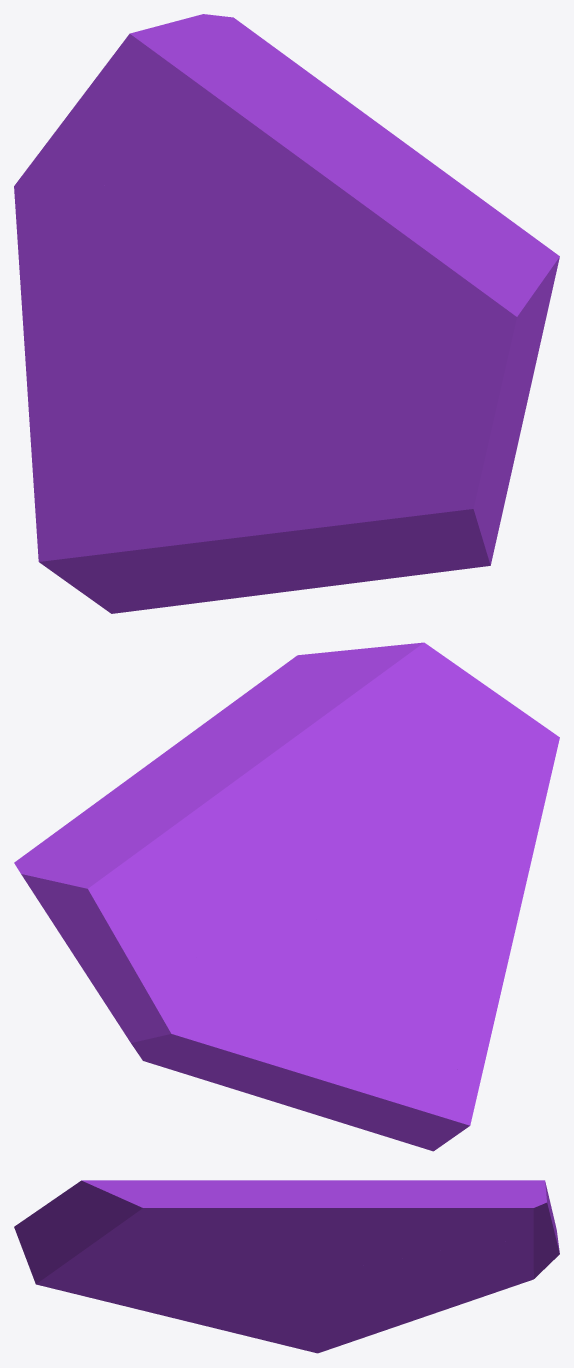
The model's file is Window_113_6_chunks.fbx.
The picture shows the model from 3 angles, top to bottom: view 1: azimuth 30°, elevation 25°; view 2: azimuth 150°, elevation 25°; view 3: azimuth 270°, elevation 25°; orthographic projection. The views are drawn at different scales.
Parts seen in each view (by area): view 1: Window_113_6_0, Window_113_6_3, Window_113_6_1, Window_113_6_2; view 2: Window_113_6_0, Window_113_6_1, Window_113_6_3, Window_113_6_2; view 3: Window_113_6_0, Window_113_6_2, Window_113_6_1, Window_113_6_3.
Boxes of the visible parts, x1,y1,x2,y2 form: Window_113_6_0: [77, 194, 559, 609]; Window_113_6_3: [60, 14, 351, 305]; Window_113_6_1: [14, 125, 189, 613]; Window_113_6_2: [257, 35, 525, 231]; Window_113_6_0: [269, 642, 559, 1090]; Window_113_6_1: [77, 919, 478, 1151]; Window_113_6_3: [14, 748, 316, 975]; Window_113_6_2: [34, 676, 278, 847]; Window_113_6_0: [14, 1180, 339, 1346]; Window_113_6_2: [183, 1181, 505, 1270]; Window_113_6_1: [292, 1210, 559, 1353]; Window_113_6_3: [281, 1180, 553, 1244].
Bounding box in the file's own units: 335 × 347 × 735.
